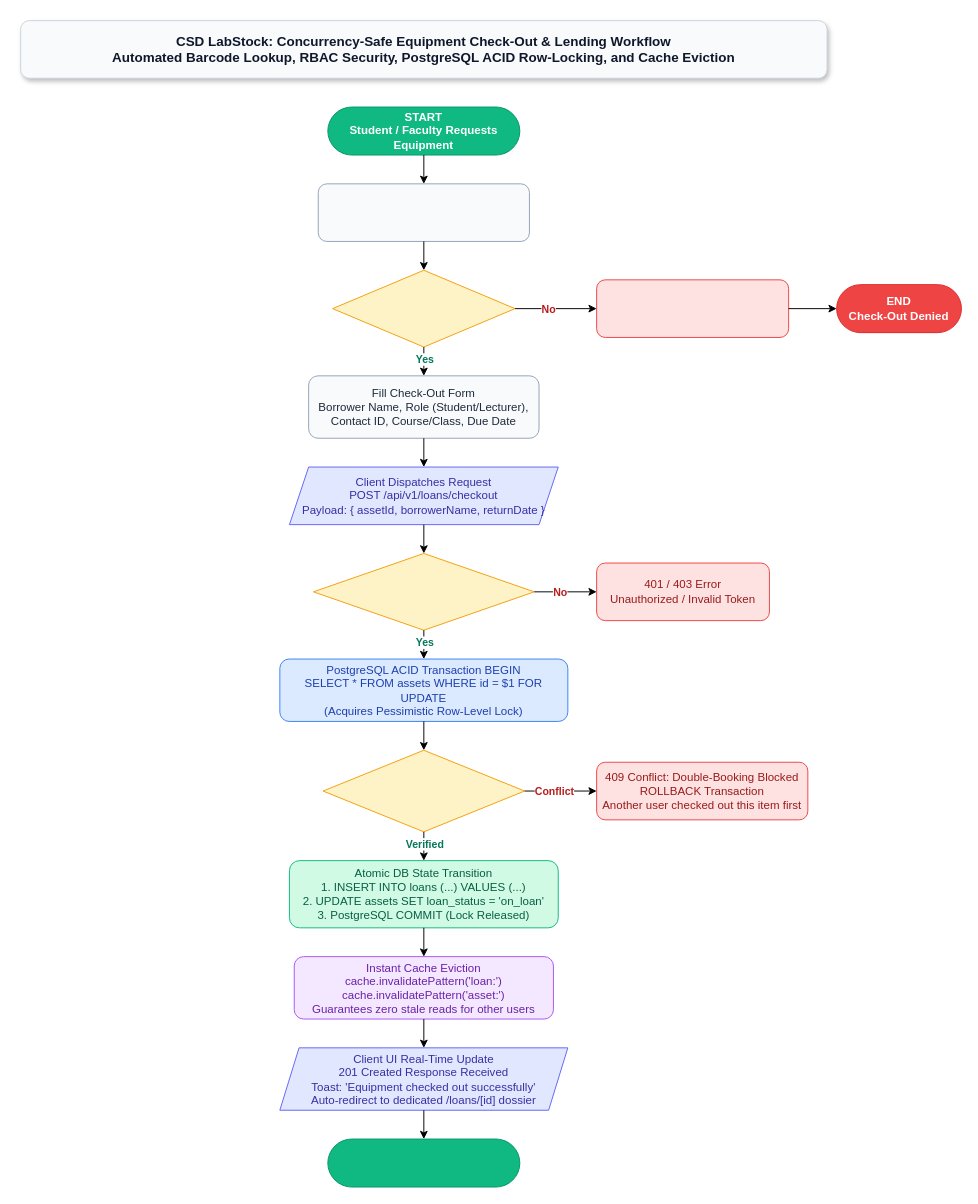
Some shapes in this 978 by 1204 pixel diagram are drawn without their labels. Each missing label, with the centre of its shape:
"Alert: Already On Loan Display Active Borrower Profile and Scheduled Return Date" goes at pixel 692 308.
"Asset Row Still Available in DB? (Race Condition Guard)" goes at pixel 423 790.
"Identify Hardware Scan Barcode / QR with Camera or Search Serial / SKU" goes at pixel 423 212.
"Is Equipment Available in Lab?" goes at pixel 423 308.
"SUCCESS Equipment Issued & In Custody" goes at pixel 423 1162.
"Valid JWT Token & loan:checkout Permission?" goes at pixel 423 591.
